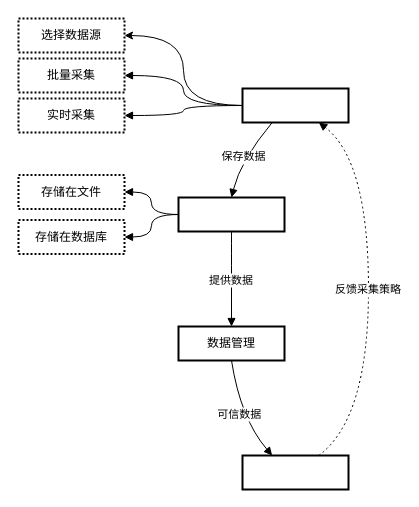
The diagram is 419 pixels wide and 507 high, and some of its shapes have lost their labels. The box of each missing label's shape, as (x1, y1, x2, y2) in pixels:
数据使用: (241, 454, 349, 490)
数据存储: (177, 196, 285, 232)
数据采集: (241, 87, 349, 123)
